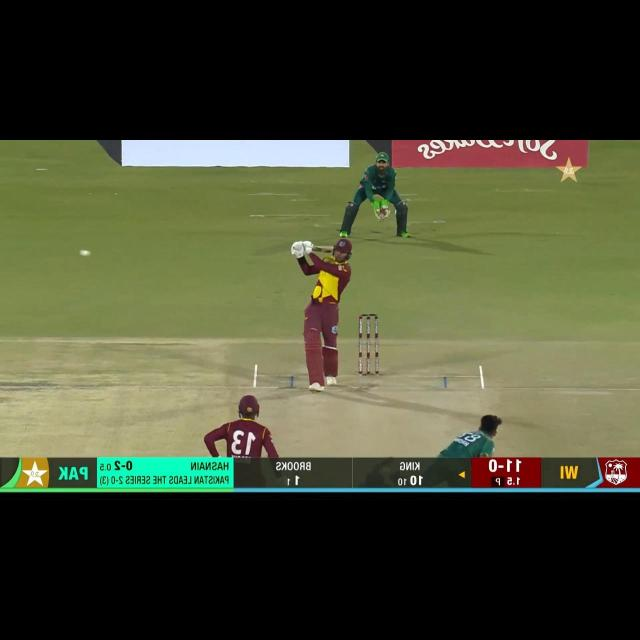bat: (312, 243, 335, 254)
